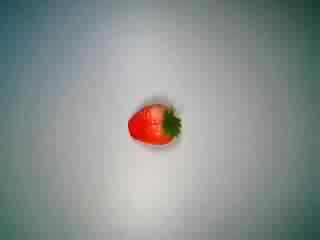strawberry: (114, 93, 182, 157)
